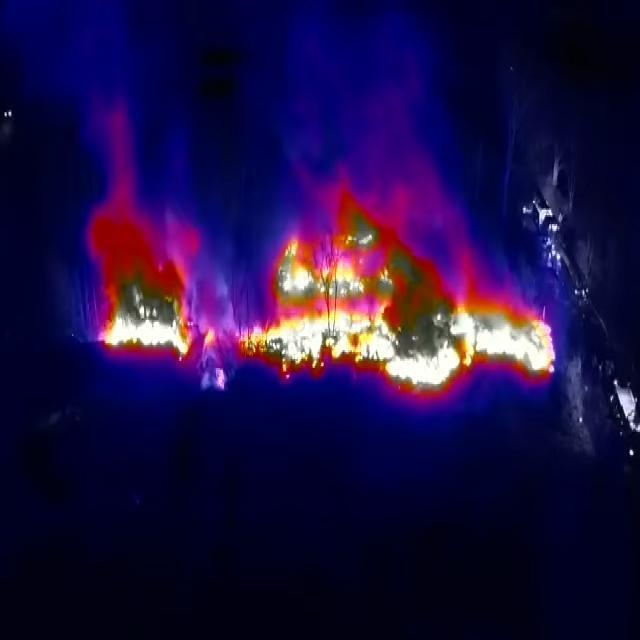fire: (241, 183, 559, 398), (83, 185, 239, 370)
